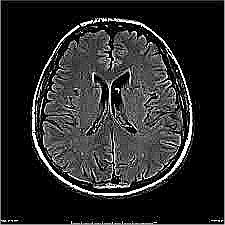Normal_Brain: (25, 2, 207, 216)
